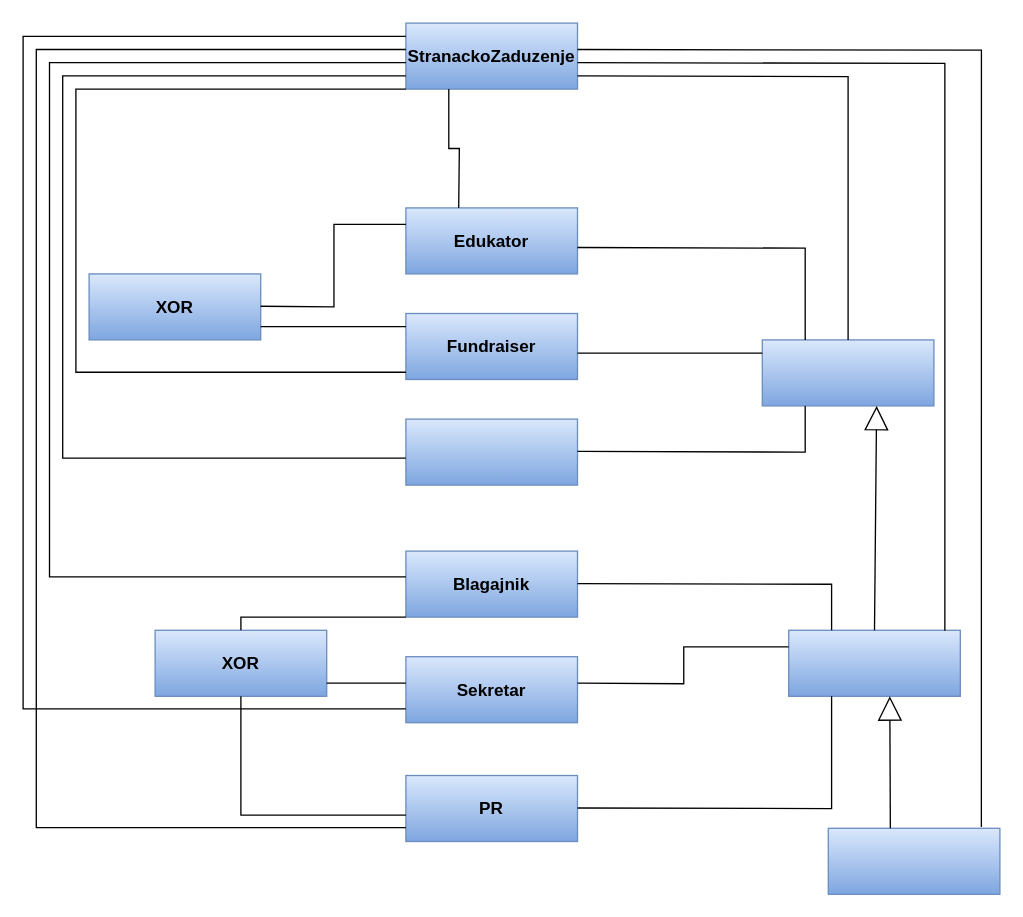
Some shapes in this 1023 by 917 pixel diagram are drawn without their labels. The shapes that lost their labels are listed below. From the top down, each one's centre as x and y in pixels, then its label:
At point (847, 372): "Glasac".
At point (491, 451): "MitingNavijac".
At point (873, 662): "Politicar".
At point (913, 860): "Lider".
